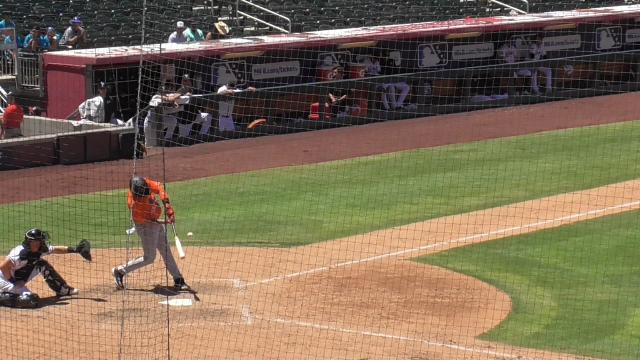baseball bat: (171, 220, 185, 260)
sports ball: (186, 230, 194, 240)
